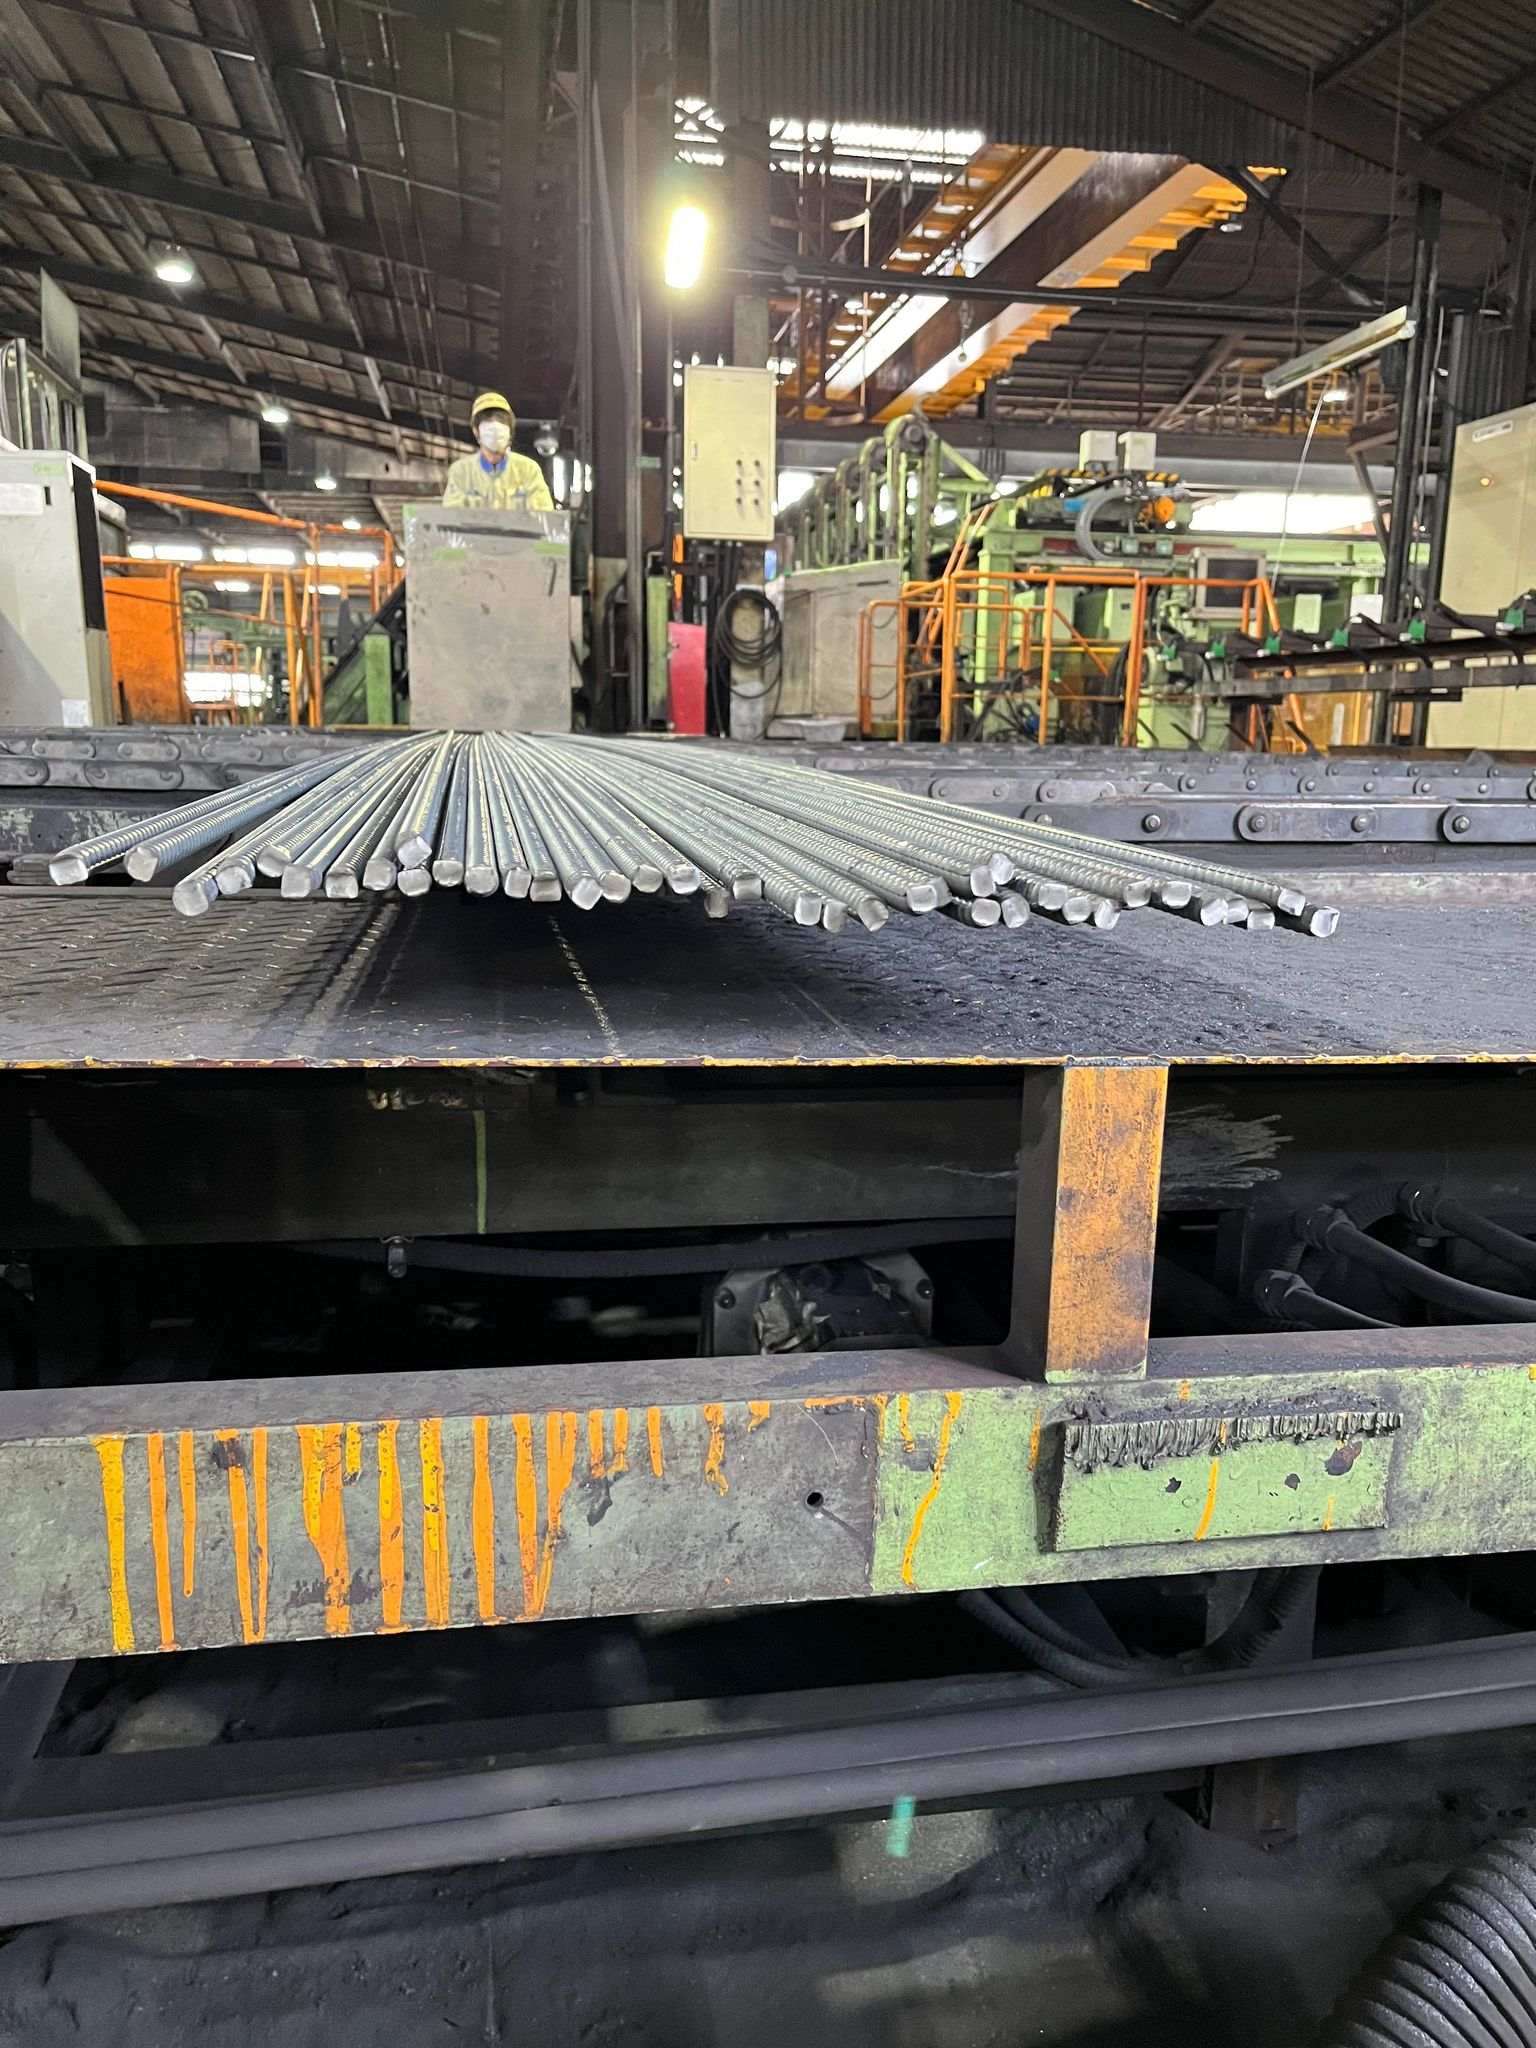rod: (47, 848, 92, 887), (169, 877, 211, 918), (121, 843, 161, 884), (855, 893, 891, 934), (278, 863, 315, 900), (1305, 903, 1342, 940), (360, 855, 395, 892), (731, 868, 766, 905), (323, 868, 361, 901), (599, 868, 632, 906), (213, 864, 253, 897), (568, 876, 603, 911), (253, 843, 290, 877), (395, 834, 432, 868), (463, 864, 500, 898), (528, 871, 563, 905), (666, 861, 700, 897), (1000, 893, 1033, 930), (395, 868, 434, 898), (986, 850, 1018, 885), (792, 889, 823, 926), (431, 856, 465, 889), (905, 884, 939, 916), (1275, 884, 1307, 918), (1092, 895, 1123, 930), (1160, 879, 1196, 910), (821, 897, 850, 934), (632, 863, 666, 893), (1121, 879, 1155, 910), (502, 864, 531, 900), (703, 884, 733, 919), (970, 897, 1002, 927), (968, 864, 999, 897), (1036, 880, 1070, 910), (1062, 895, 1091, 926), (1199, 897, 1228, 927), (1246, 905, 1276, 934), (928, 876, 955, 908), (1225, 895, 1250, 927)
